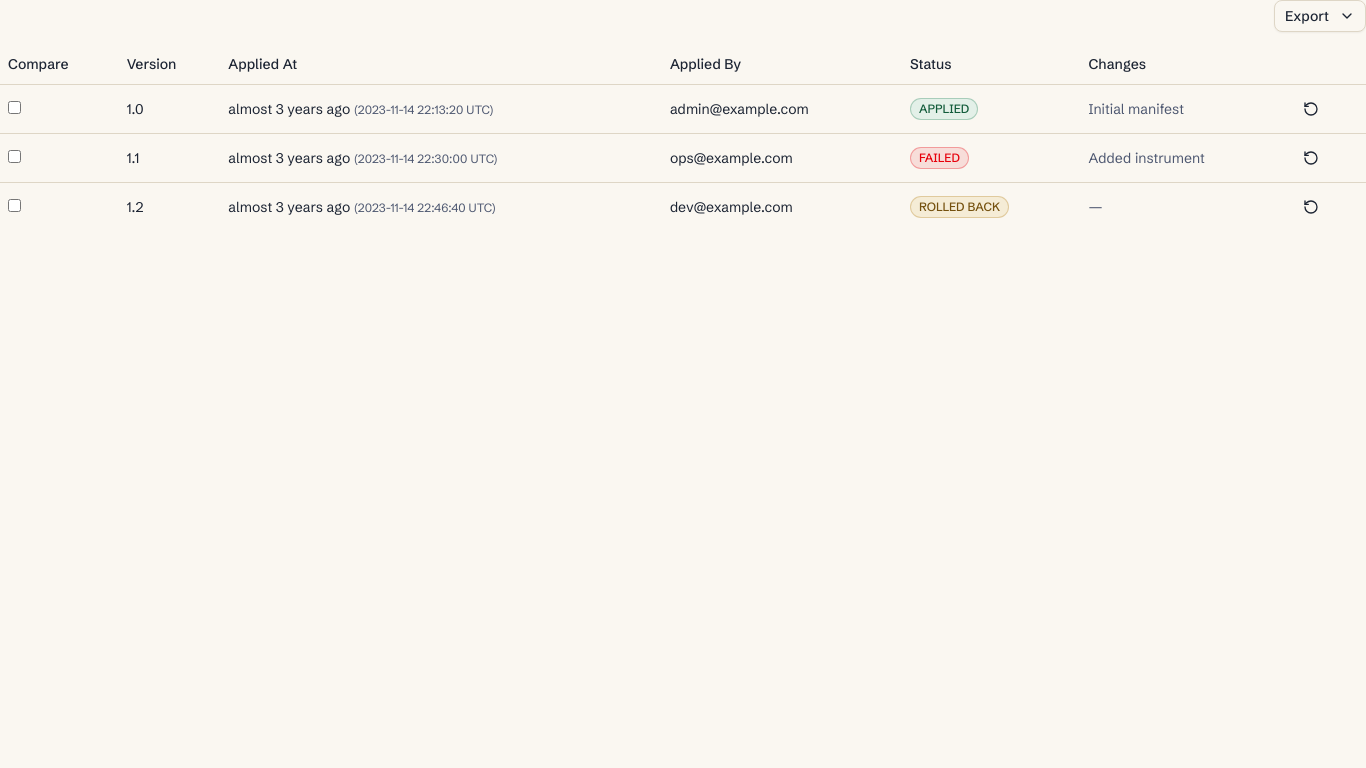
Test: ManifestHistoryTable › opens detail dialog on row click
The image size is (1366, 768).
Click the text "1.0": (135, 108) [119,84,220,133]
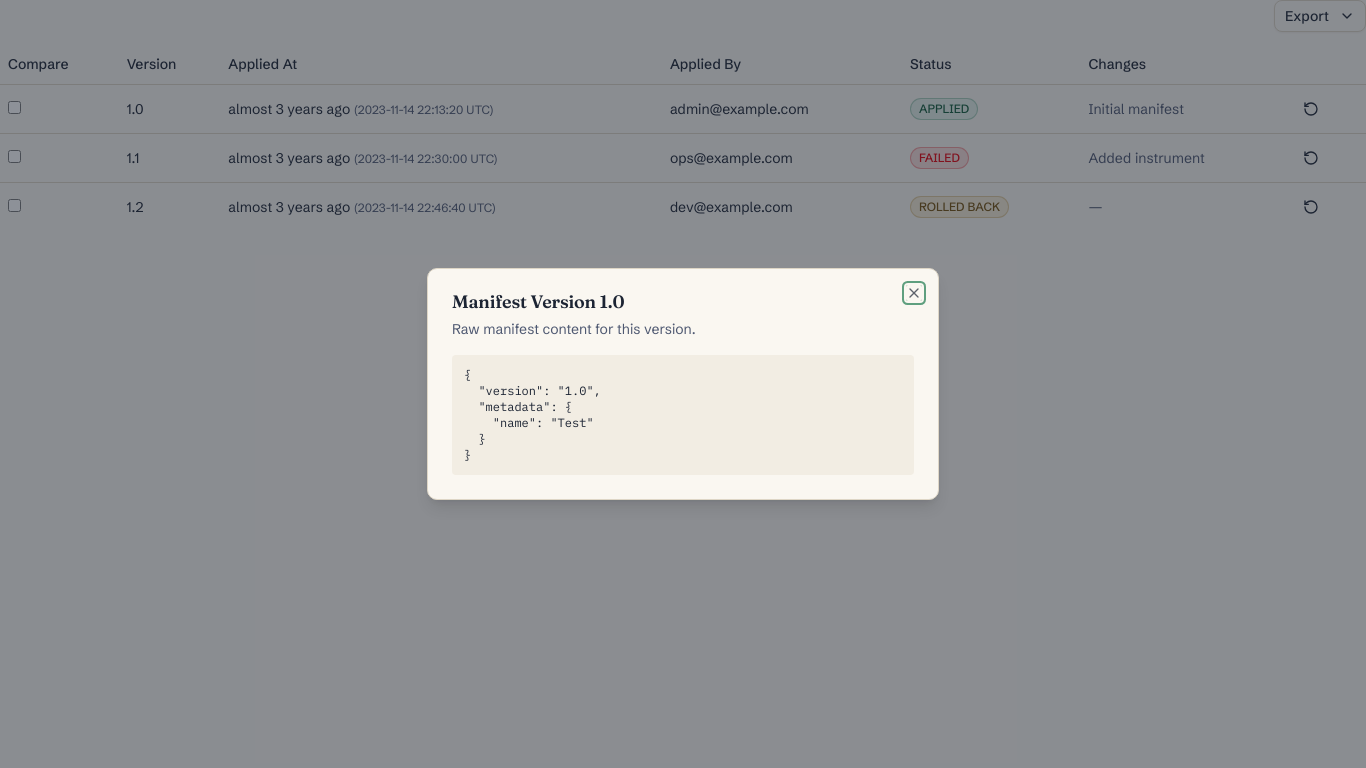
Now the dialog is shown, box [427,268,939,500]
Now the heading "Manifest Version 1.0" is shown, box [452,290,624,313]
